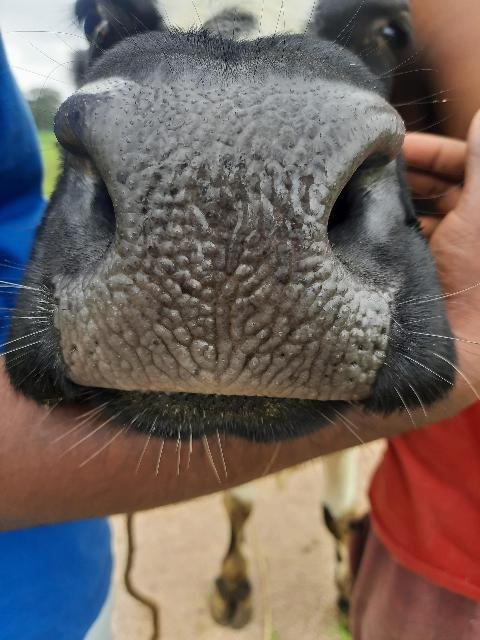Muzzle: (96, 88, 352, 394)
